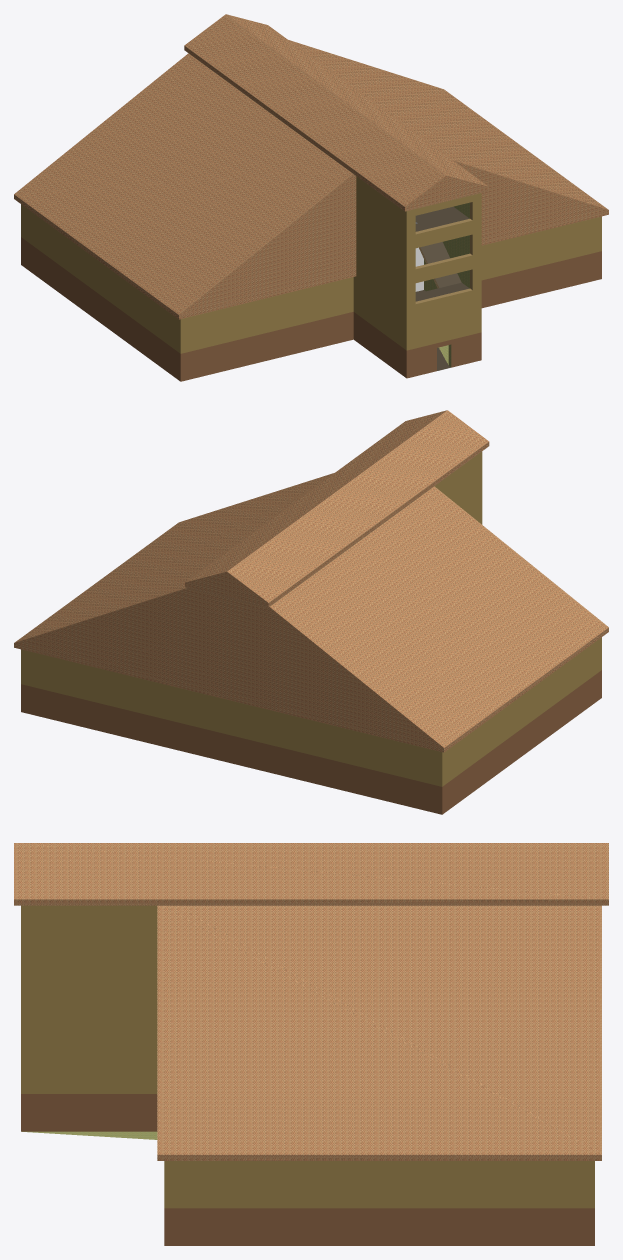
The model's file is newLodge.fbx.
3 renders of one model, top to bottom at view 1: azimuth 30°, elevation 25°; view 2: azimuth 150°, elevation 25°; view 3: azimuth 270°, elevation 25°, orthographic. The views are drawn at different scales.
Visible parts, largest first — view 1: roof1, UpperFloor1, Lower1; view 2: roof1, UpperFloor1, Lower1; view 3: roof1, UpperFloor1, Lower1.
Boxes of the visible parts, x1,y1,x2,y2 form: roof1: (14, 14, 608, 320); UpperFloor1: (21, 176, 601, 353); Lower1: (21, 237, 601, 381); roof1: (14, 410, 608, 754); UpperFloor1: (21, 451, 601, 786); Lower1: (21, 670, 601, 814); roof1: (14, 843, 608, 1164); UpperFloor1: (21, 905, 594, 1208); Lower1: (21, 1094, 594, 1245).
Size of the model in its own units: 2321 by 1009 by 2062.
